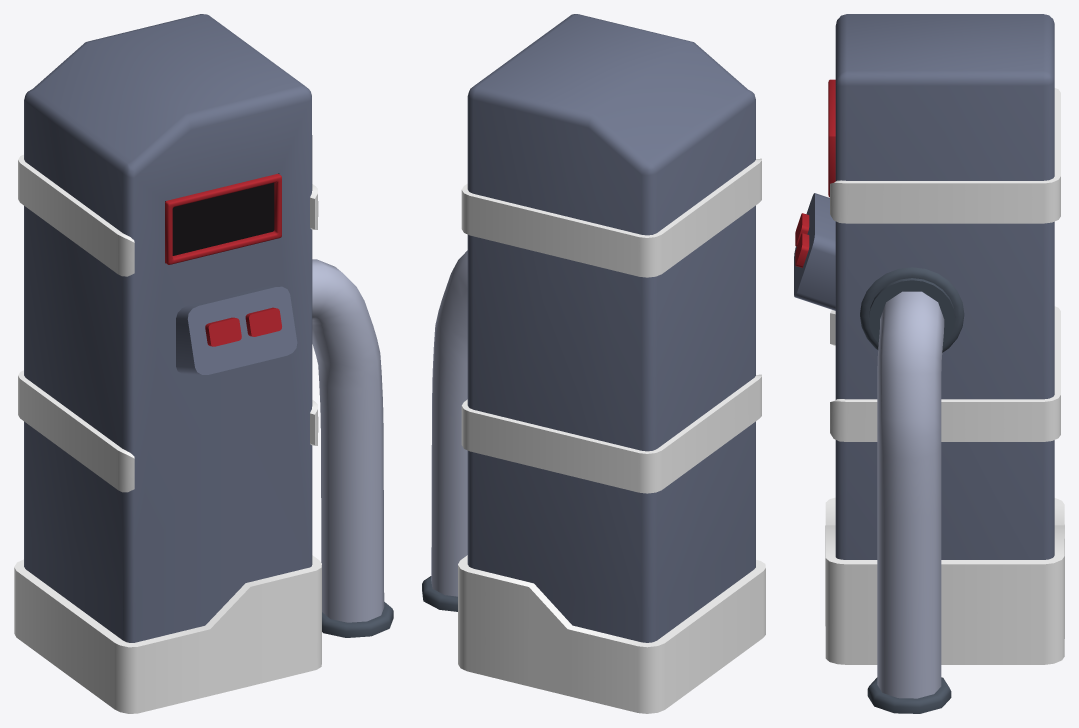
File: MM_Thermostat.fbx
3 views of the same model, side by side, from view 1: azimuth 30°, elevation 25°; view 2: azimuth 150°, elevation 25°; view 3: azimuth 270°, elevation 25° (orthographic).
Visible parts, largest first — view 1: Thermostat; view 2: Thermostat; view 3: Thermostat.
Boxes of the visible parts, x1,y1,x2,y2 form: Thermostat: [14, 14, 393, 713]; Thermostat: [422, 14, 765, 713]; Thermostat: [794, 14, 1064, 713].
Bounding box in the file's own units: 90.53 × 164 × 68.9.
